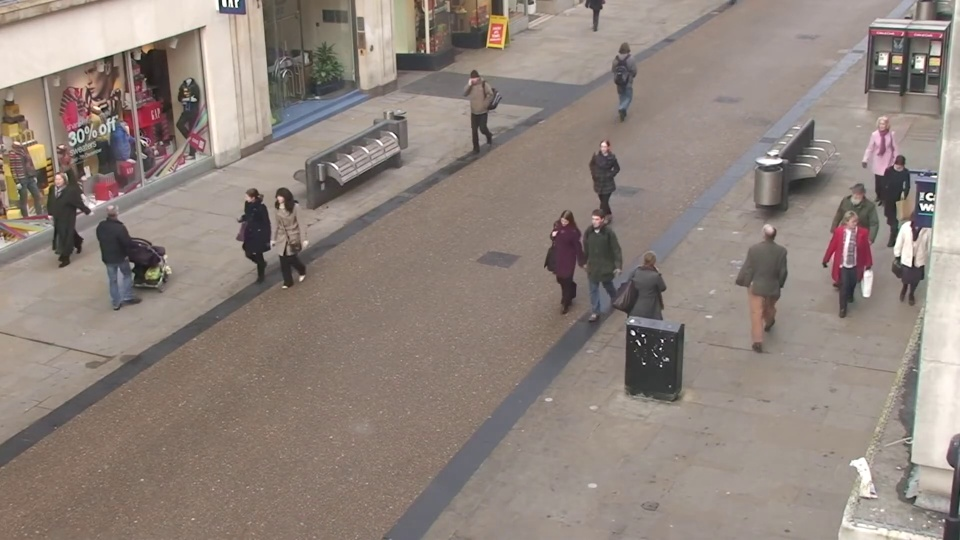pedestrian: (818, 211, 866, 332), (33, 171, 85, 279), (631, 243, 674, 373), (102, 196, 151, 310), (748, 213, 792, 335), (823, 183, 868, 298), (227, 186, 271, 299), (869, 153, 915, 261), (260, 186, 302, 300), (541, 210, 579, 332), (574, 206, 612, 328), (858, 118, 900, 216), (585, 137, 618, 240), (457, 69, 486, 152), (615, 37, 640, 111)
